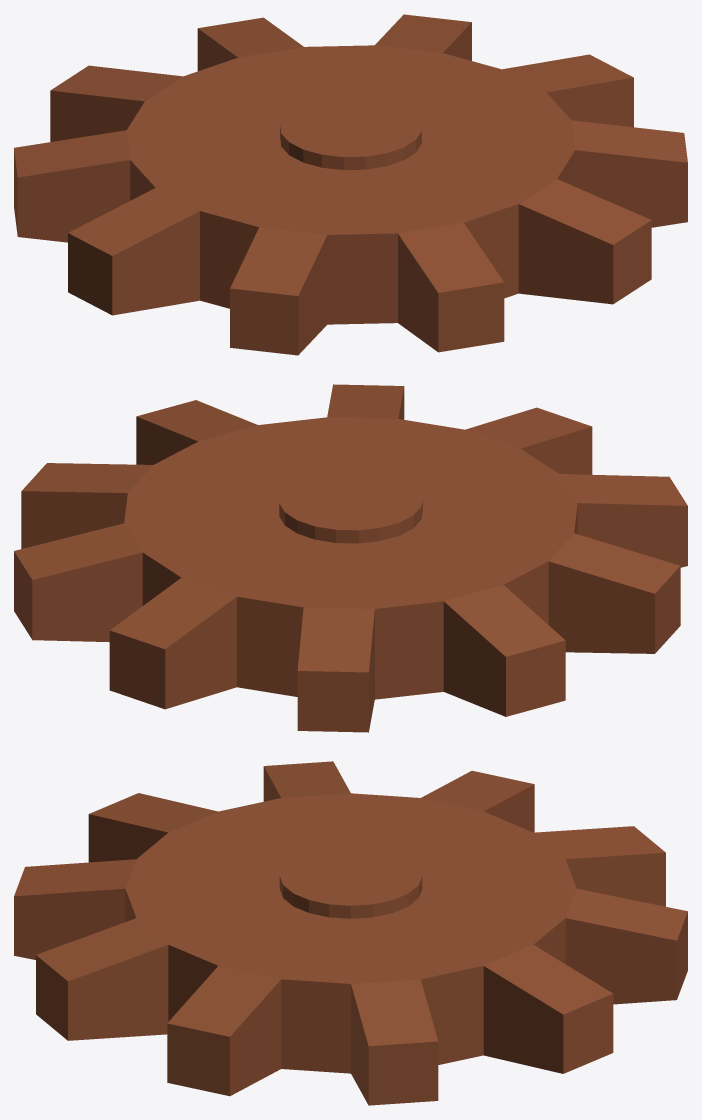
Rendered from Gear2.glb.
3 renders of one model, top to bottom at view 1: azimuth 30°, elevation 25°; view 2: azimuth 150°, elevation 25°; view 3: azimuth 270°, elevation 25°, orthographic.
Visible parts, largest first — view 1: Gear2; view 2: Gear2; view 3: Gear2.
Boxes of the visible parts, x1=… form: Gear2: x1=14, y1=14, x2=687, y2=355; Gear2: x1=14, y1=384, x2=687, y2=732; Gear2: x1=14, y1=761, x2=687, y2=1105.
Size of the model in its own units: 5.07 by 0.853 by 5.07.
